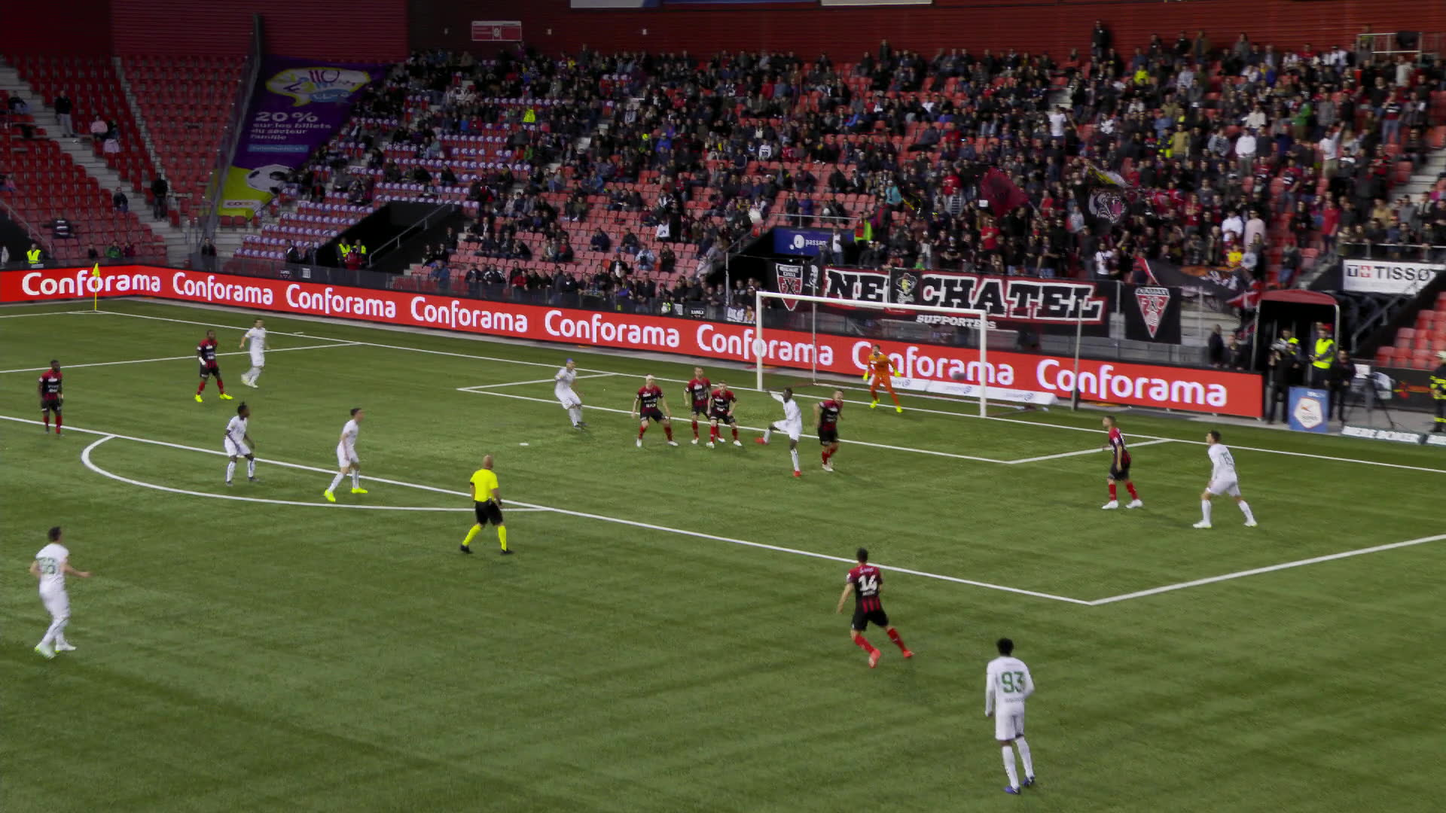ball: (752, 215, 763, 229)
player: (823, 545, 900, 663), (980, 638, 1036, 790), (33, 527, 80, 656), (1191, 425, 1246, 527), (747, 383, 807, 467), (1091, 415, 1138, 506), (327, 404, 365, 496), (625, 371, 672, 445), (676, 364, 716, 440), (219, 398, 254, 484), (227, 318, 271, 386), (185, 330, 226, 400), (854, 346, 895, 410), (699, 379, 737, 446), (33, 358, 64, 437), (810, 388, 840, 468), (546, 358, 580, 427)
referee: (456, 451, 505, 551)
